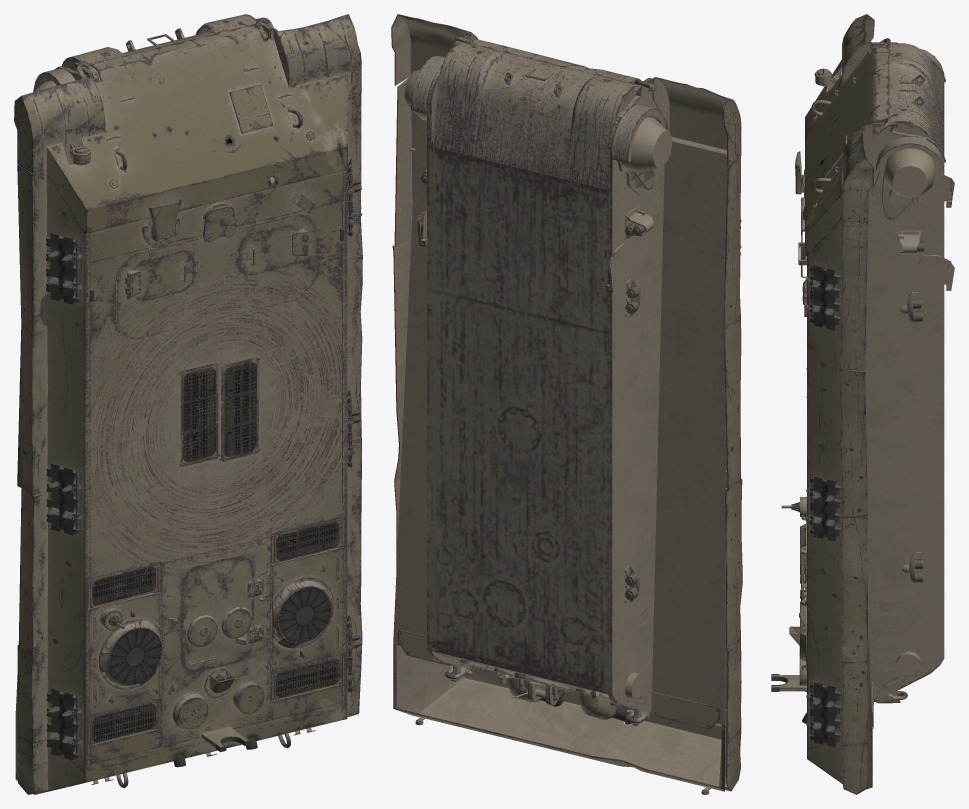
Rendered from Hull.glb.
3 renders of one model, left to right at view 1: azimuth 30°, elevation 25°; view 2: azimuth 150°, elevation 25°; view 3: azimuth 270°, elevation 25°, orthographic. The views are drawn at different scales.
Parts seen in each view (by area): view 1: set_0_group_0; view 2: set_0_group_0; view 3: set_0_group_0.
Boxes of the visible parts, <box> form: set_0_group_0: <box>14,14,362,794</box>; set_0_group_0: <box>391,14,742,794</box>; set_0_group_0: <box>771,14,954,794</box>.
Size of the model in its own units: 3.48 by 6.99 by 1.8.
1 material, 1 textured.
